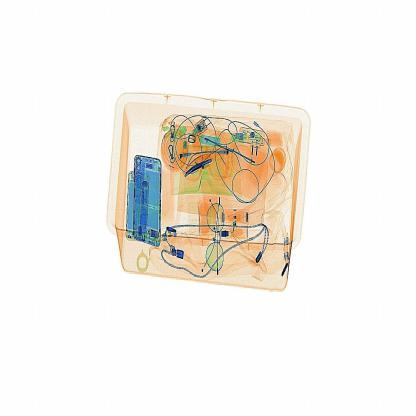pliers: (176, 152, 216, 181)
